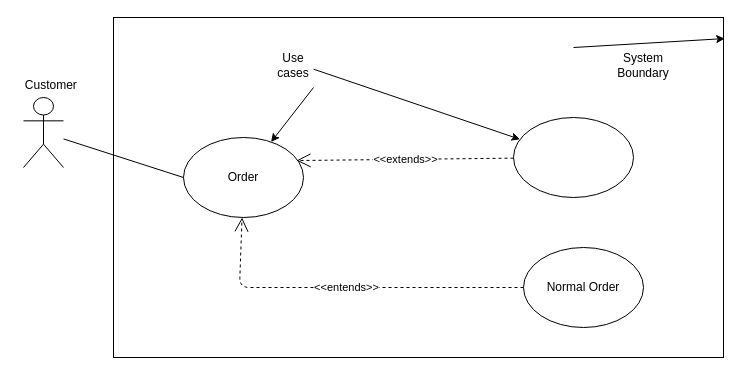
This 750x375 diagram has some shape labels left out. Each missing label, with the box of its shape:
Actor: (22, 96, 64, 168)
Special Order: (512, 116, 634, 198)
